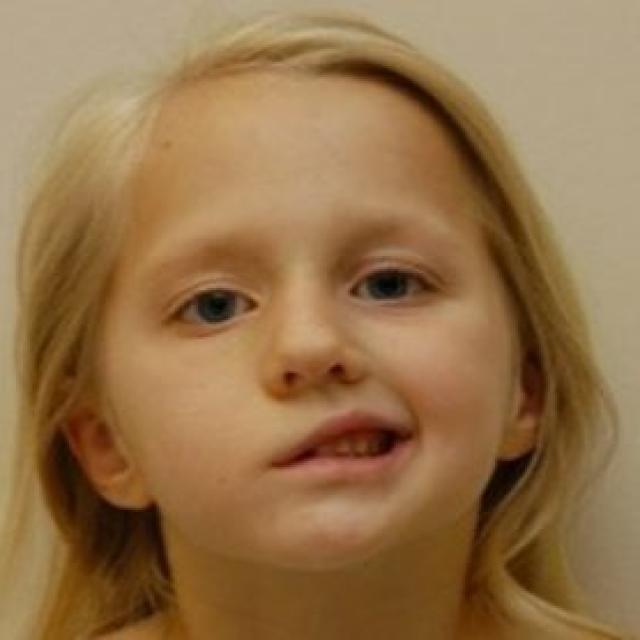stroke_face: (99, 91, 463, 572)
